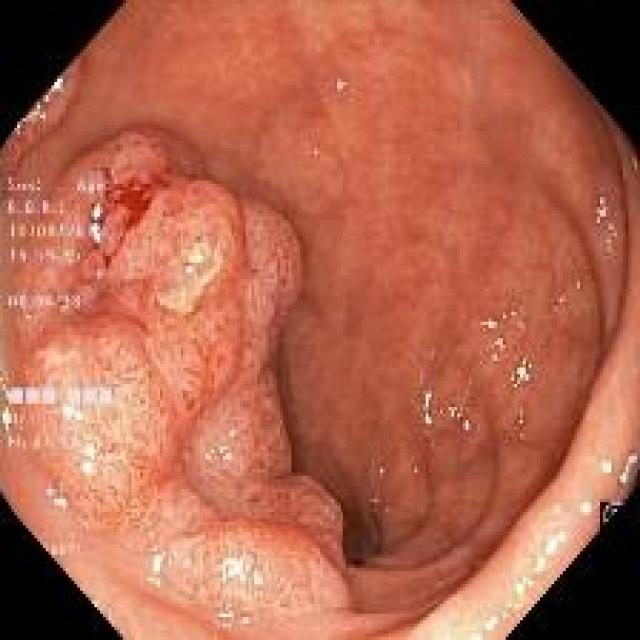Polyps: (6, 129, 352, 631)
